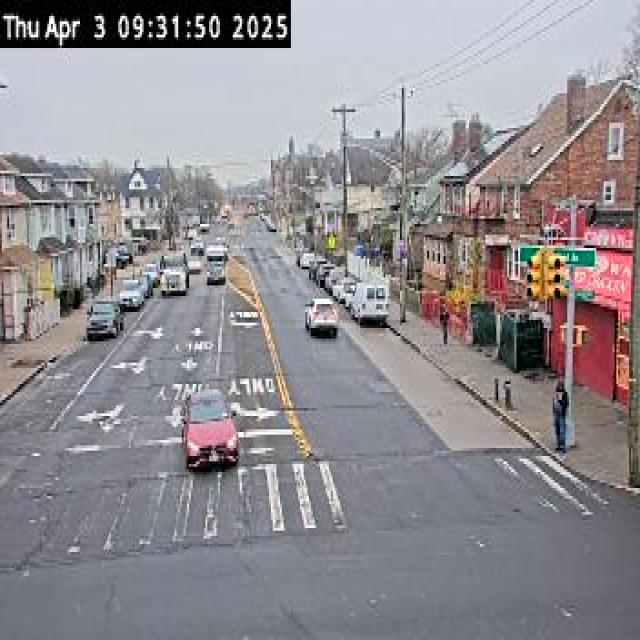open parking: (367, 307, 411, 367), (112, 290, 138, 314)
parkedCars: (298, 255, 414, 379), (68, 228, 155, 332)
